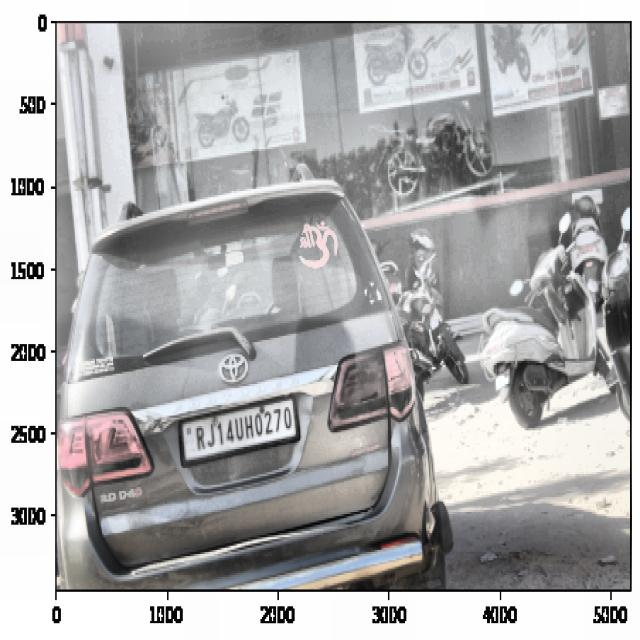license_plate: (194, 408, 298, 450)
